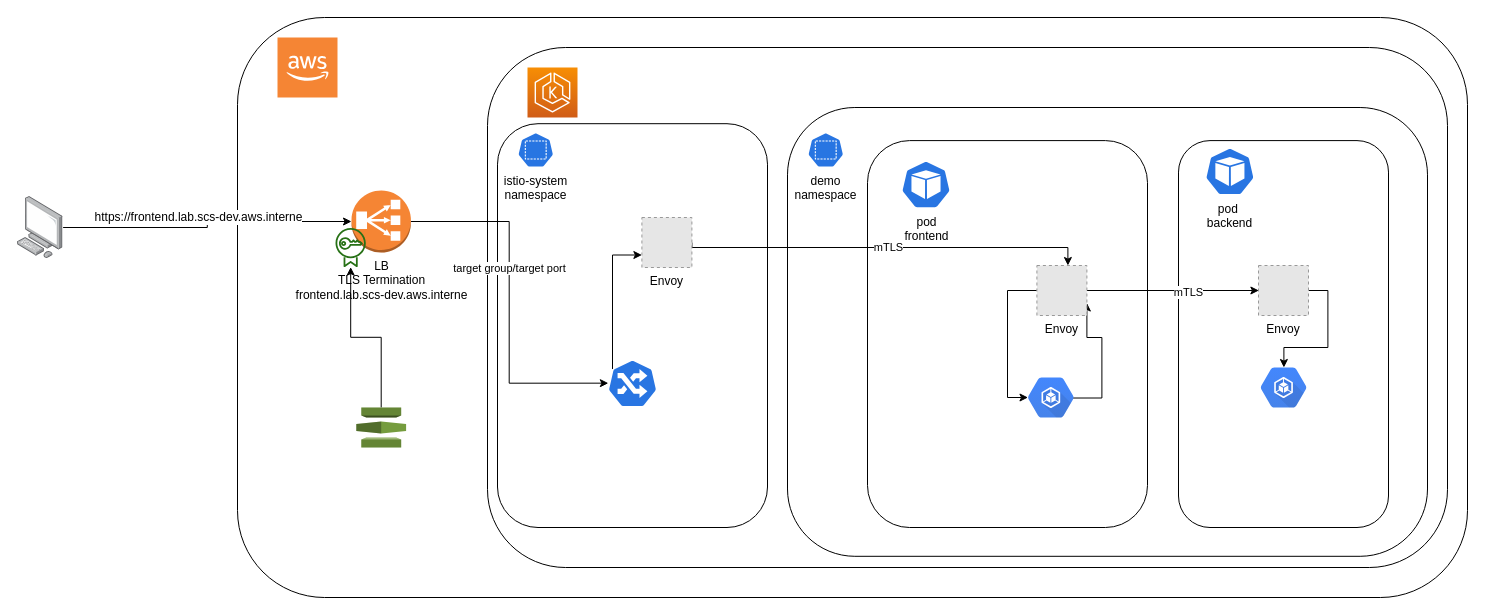
The diagram is 1485 pixels wide and 615 high, and some of its shapes have lost their labels. Grey dashed boxes stand in for pictures. Here are the shapes that lost their labels. From the top down, the box of each, then its label:
(606, 358, 658, 408): Istio ingress gateway
(1028, 377, 1073, 417): container frontend
(1260, 367, 1306, 407): container backend
(355, 406, 406, 448): ACM
